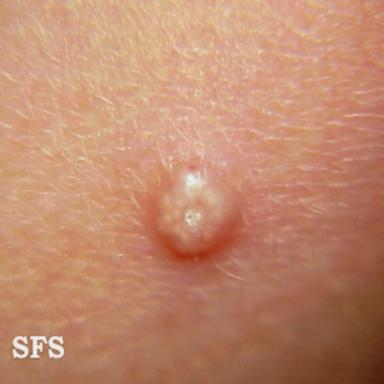Molluscum-Contagiosum: (149, 162, 240, 257)
